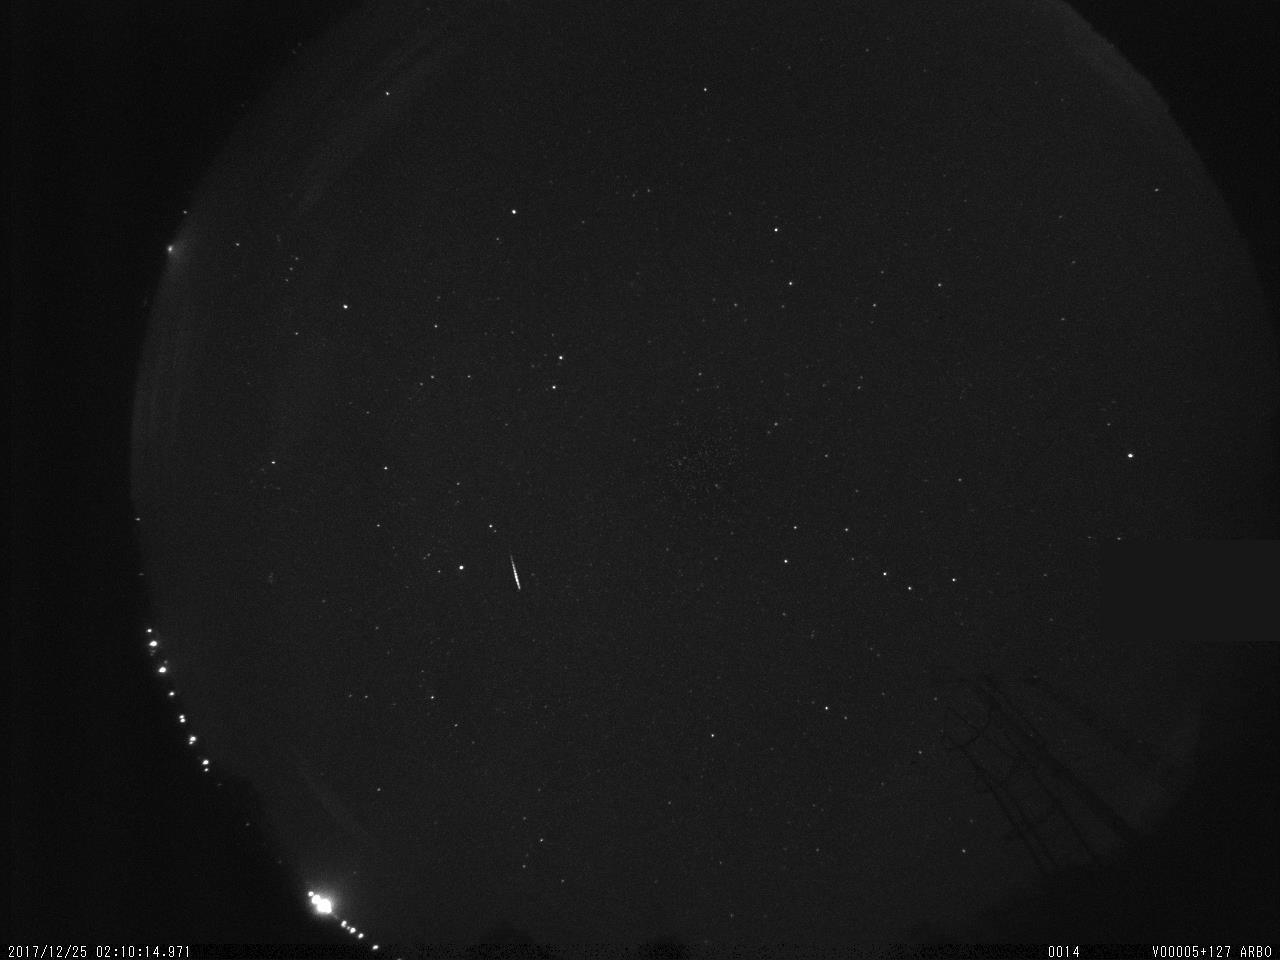meteor: (496, 542, 529, 600)
